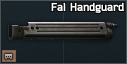SA-58%5FAL original Austrian handguard: (0, 0, 127, 64)
